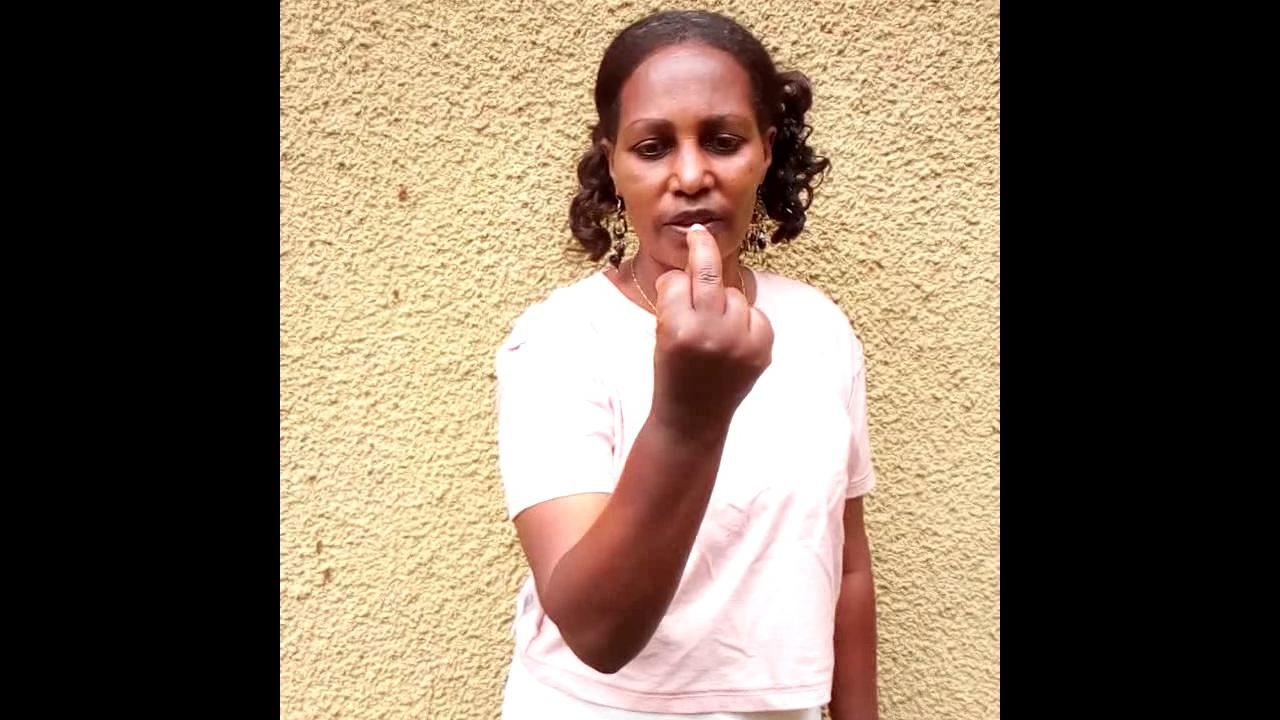CHE: (650, 220, 774, 533)
